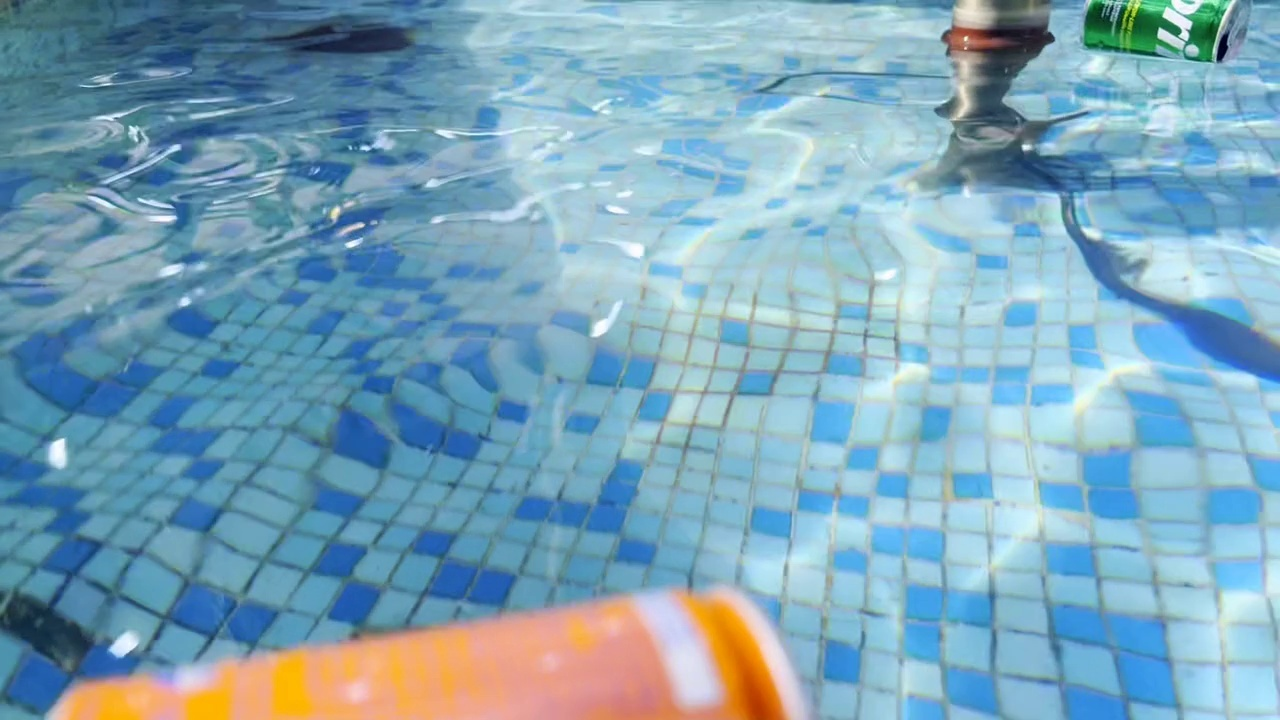debris: (35, 556, 820, 720), (1068, 0, 1259, 74)
